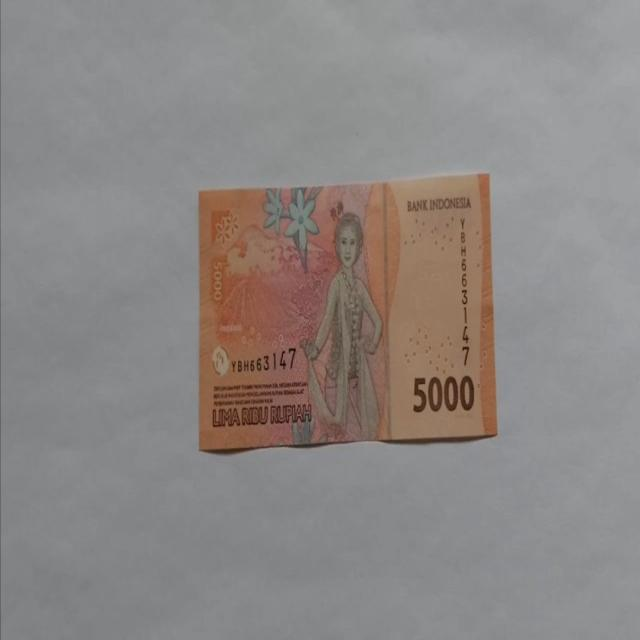lima ribu rupiah: (197, 172, 497, 452), (299, 210, 384, 442)
